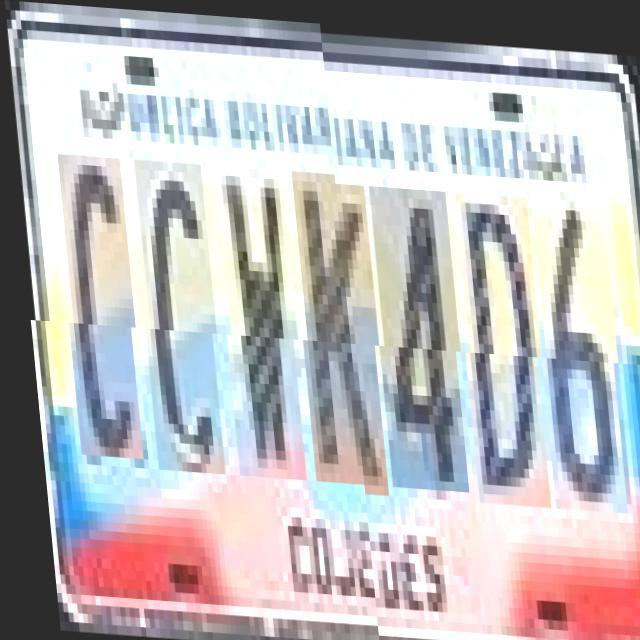4: (366, 181, 464, 486)
6: (528, 190, 623, 505)
C: (132, 168, 222, 482), (55, 162, 140, 468)
D: (452, 185, 546, 500)
K: (290, 176, 384, 491)
W: (212, 172, 304, 486)
